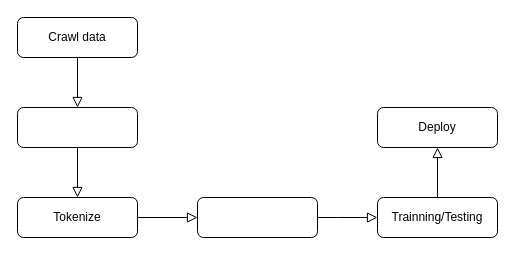
This 515x255 diagram has some shape labels left out. Here are the shapes that lost their labels. From the top down, the centre of each, then its label:
At point (77, 127): "Preprocessing".
At point (257, 217): "Vectorize".
